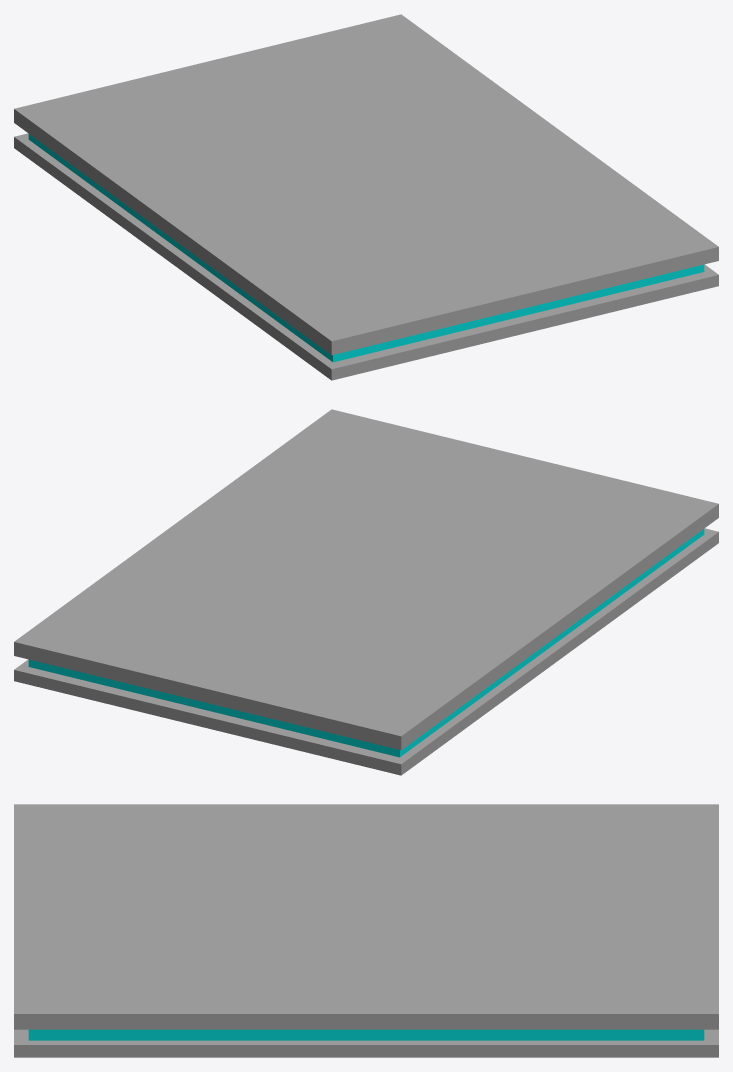
File: Platform.fbx
The picture shows the model from 3 angles, top to bottom: view 1: azimuth 30°, elevation 25°; view 2: azimuth 150°, elevation 25°; view 3: azimuth 270°, elevation 25°; orthographic projection. The views are drawn at different scales.
Visible parts, largest first — view 1: Platform; view 2: Platform; view 3: Platform.
Part boxes in pixels (x1=…): Platform: x1=14, y1=14, x2=718, y2=380; Platform: x1=14, y1=409, x2=718, y2=775; Platform: x1=14, y1=804, x2=718, y2=1057.
Bounding box in the file's own units: 6.24 × 0.6056 × 8.87.
